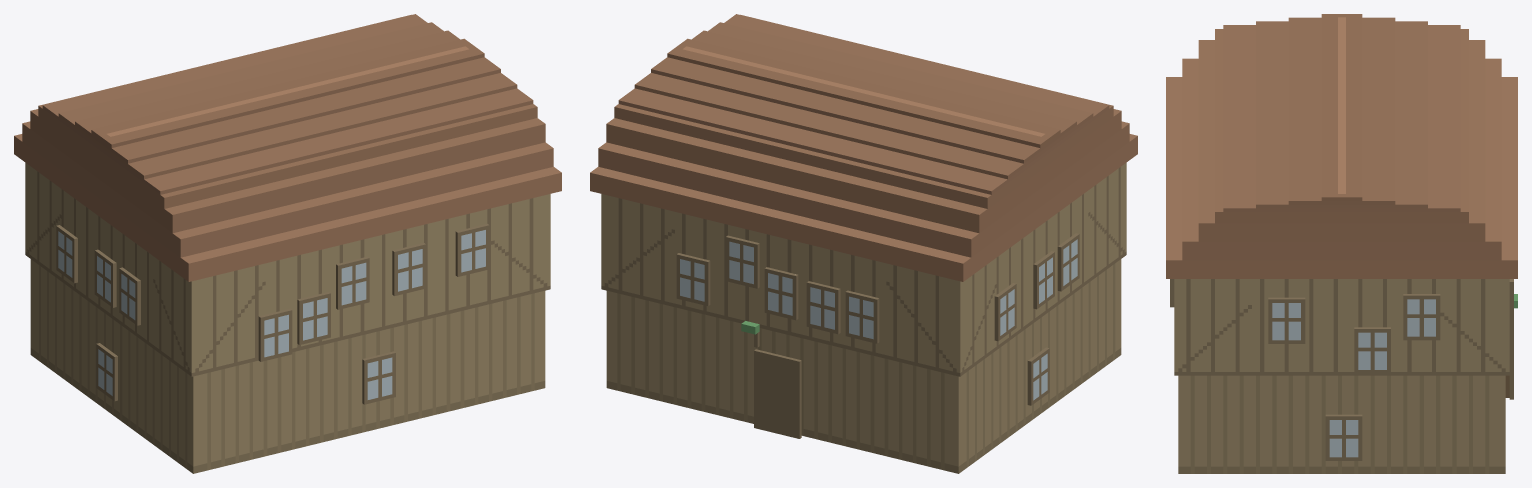
File: taberna_02.glb
3 views of the same model, side by side, from view 1: azimuth 30°, elevation 25°; view 2: azimuth 150°, elevation 25°; view 3: azimuth 270°, elevation 25° (orthographic).
Visible parts, largest first — view 1: taberna_02; view 2: taberna_02; view 3: taberna_02.
Boxes of the visible parts, box(x1,y1,x2,y2) form: taberna_02: box(14, 14, 561, 473); taberna_02: box(590, 14, 1137, 473); taberna_02: box(1166, 14, 1517, 473).
Bounding box in the file's own units: 10.6 × 7.6 × 8.6.
